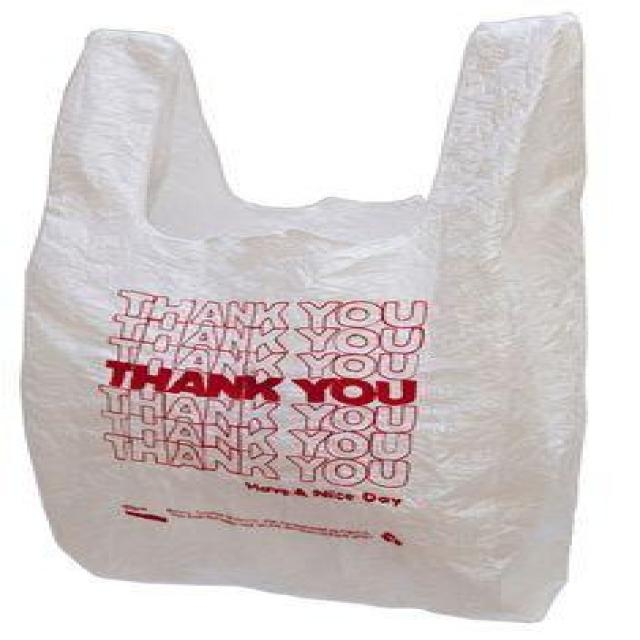plastic_bag: (13, 4, 618, 640)
